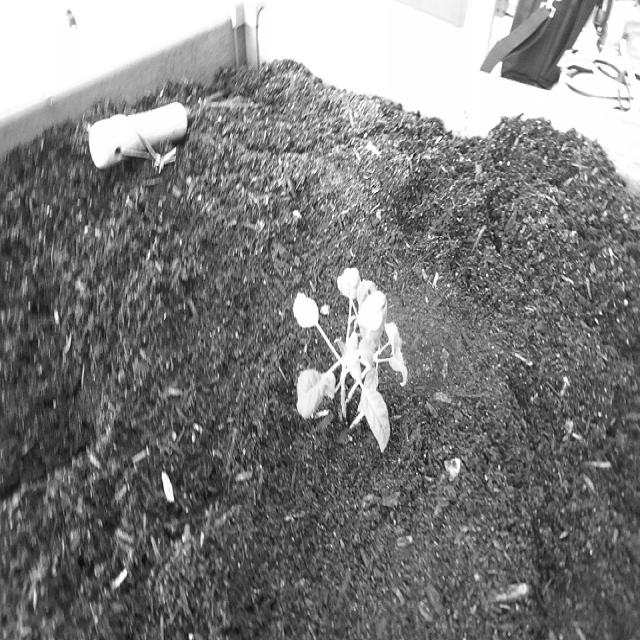Healthy: (287, 260, 413, 462)
